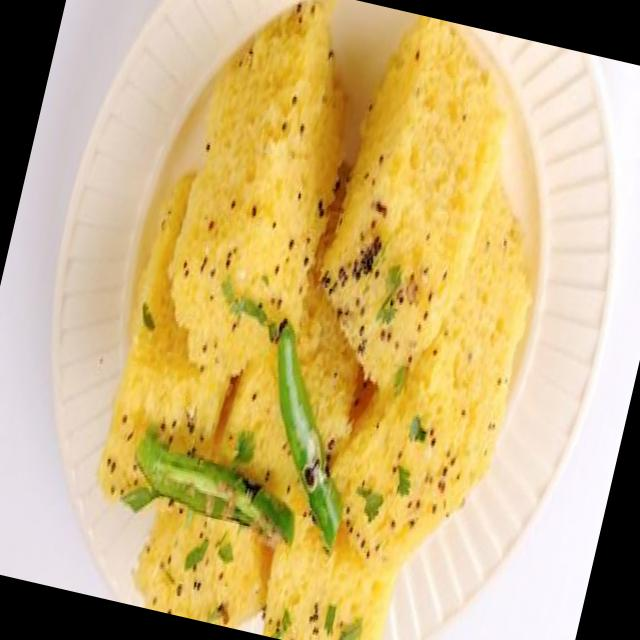dhokla: (61, 6, 580, 640)
